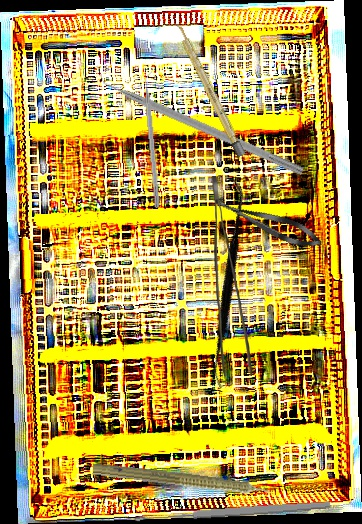Chopper: (89, 61, 310, 177), (142, 69, 168, 208)
Handpiece: (91, 459, 283, 506)
Micro Scissor: (213, 192, 326, 254)
Scalpel Handle: (173, 21, 246, 158)
Spatula Surgical: (140, 177, 314, 390)
Surgical Spoon: (133, 499, 332, 524)
Tissue Forceps: (212, 176, 252, 376)
